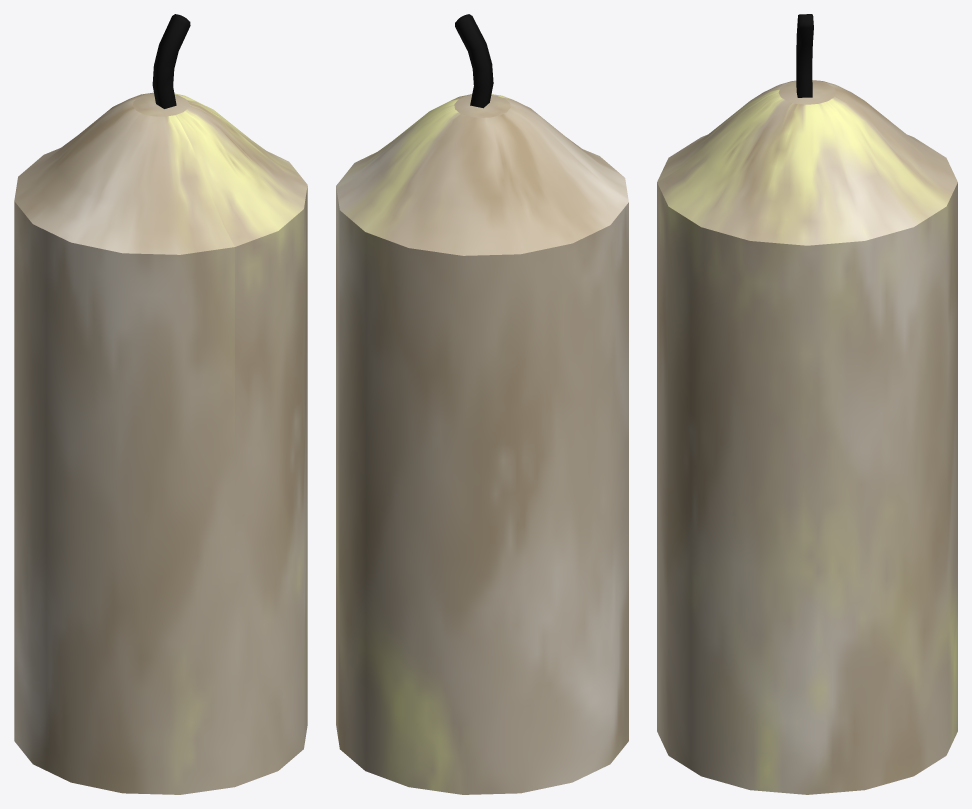
Rendered from candle_tallow.glb.
3 renders of one model, left to right at view 1: azimuth 30°, elevation 25°; view 2: azimuth 150°, elevation 25°; view 3: azimuth 270°, elevation 25°, orthographic.
Parts seen in each view (by area): view 1: Object_16; view 2: Object_16; view 3: Object_16.
Part boxes in pixels (bbox=[...]): Object_16: bbox=[14, 14, 307, 794]; Object_16: bbox=[336, 14, 628, 794]; Object_16: bbox=[657, 14, 957, 794].
Bounding box in the file's own units: 0.064 × 0.1701 × 0.064.
Materials: 1 (1 with a texture image).
